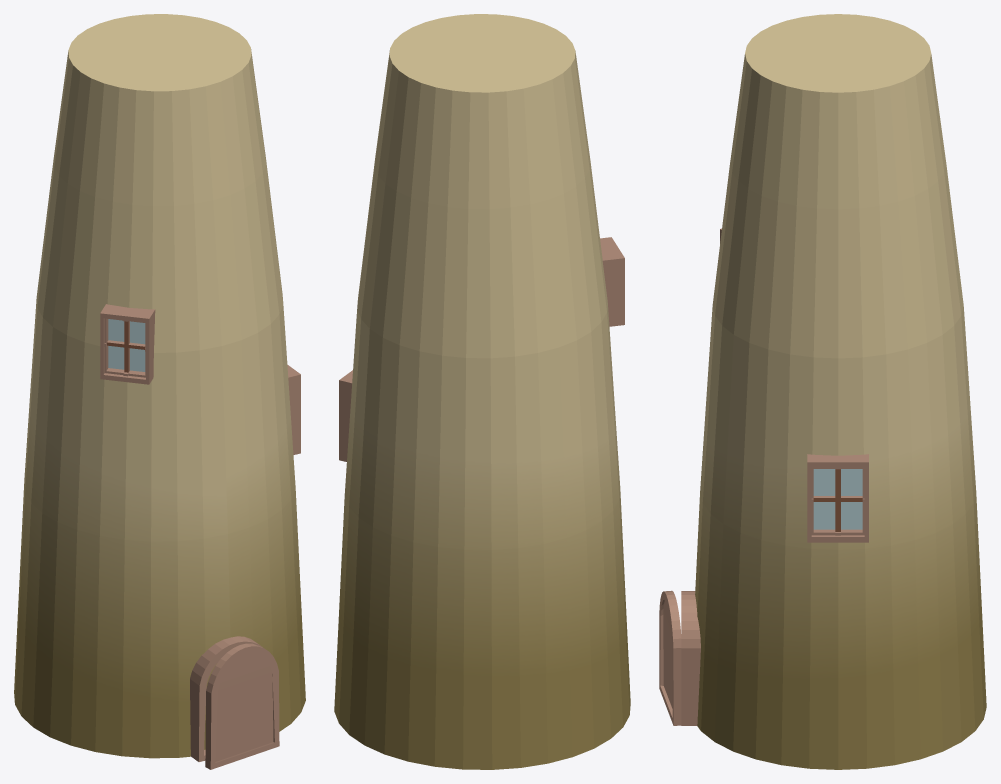
Rendered from Obstacle2.obj.
3 renders of one model, left to right at view 1: azimuth 30°, elevation 25°; view 2: azimuth 150°, elevation 25°; view 3: azimuth 270°, elevation 25°, orthographic.
Parts seen in each view (by area): view 1: 円, 円.002, 円.004, 円.001, 円.003; view 2: 円, 円.004, 円.003; view 3: 円, 円.003, 円.002, 円.001.
Part boxes in pixels (bbox=[...]): 円: bbox=[14, 14, 305, 758]; 円.002: bbox=[205, 643, 279, 769]; 円.004: bbox=[100, 304, 155, 384]; 円.001: bbox=[190, 636, 263, 761]; 円.003: bbox=[287, 364, 300, 454]; 円: bbox=[334, 14, 630, 769]; 円.004: bbox=[600, 237, 624, 326]; 円.003: bbox=[339, 370, 352, 461]; 円: bbox=[695, 14, 986, 769]; 円.003: bbox=[807, 454, 868, 542]; 円.002: bbox=[659, 590, 681, 725]; 円.001: bbox=[681, 591, 700, 725].
Size of the model in its own units: 1.92 by 4.67 by 2.12.
Materials: 1 (1 with a texture image).
